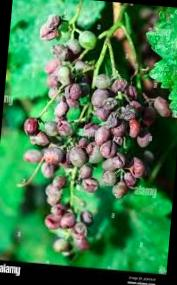Grape Rotten: (10, 0, 177, 267)
